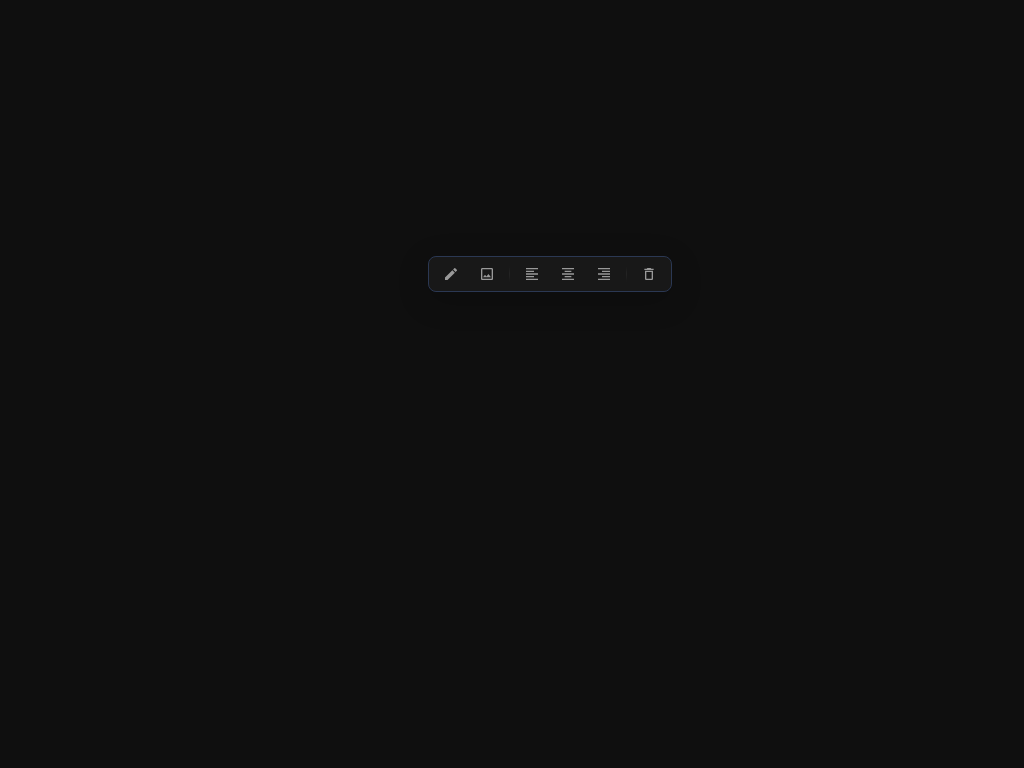
Scenario: FloatingToolbar — K4 图片工具栏 › Bug B 修改图片弹窗滚动重锚定：editImagePosition 随滚动更新（弹窗跟随图片）
Click the button named "修改图片".
click(451, 274)  # box [435,260,467,288]
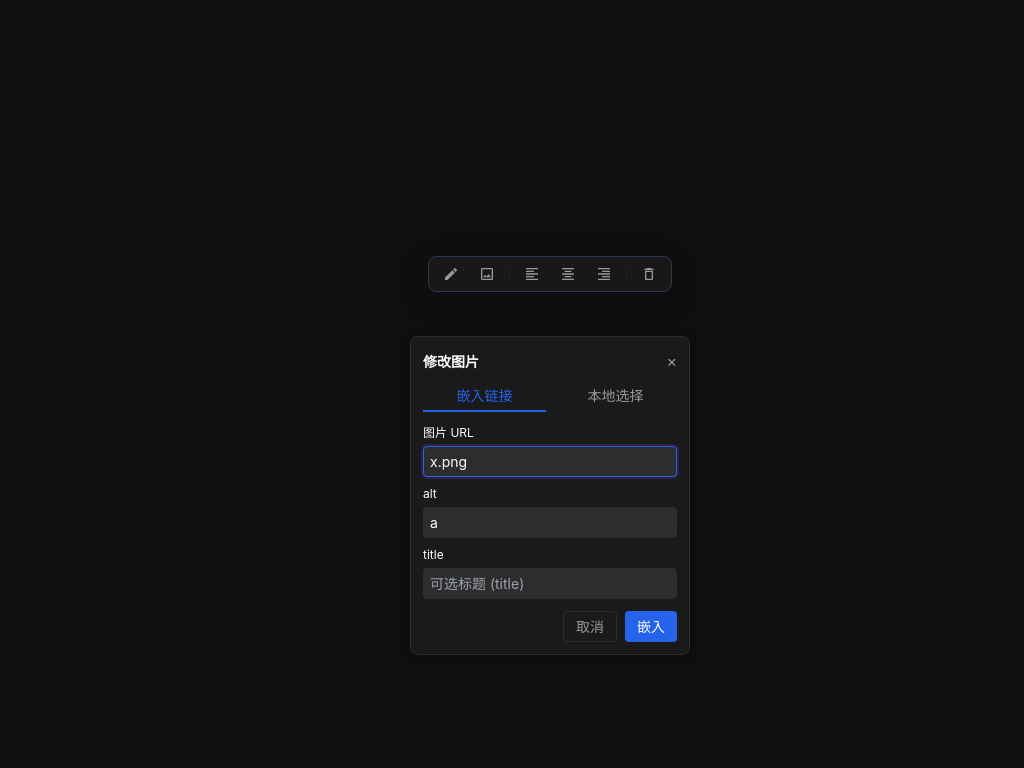
Check: the dialog with test id "image-edit-tool" is shown, box [410,336,690,655]
